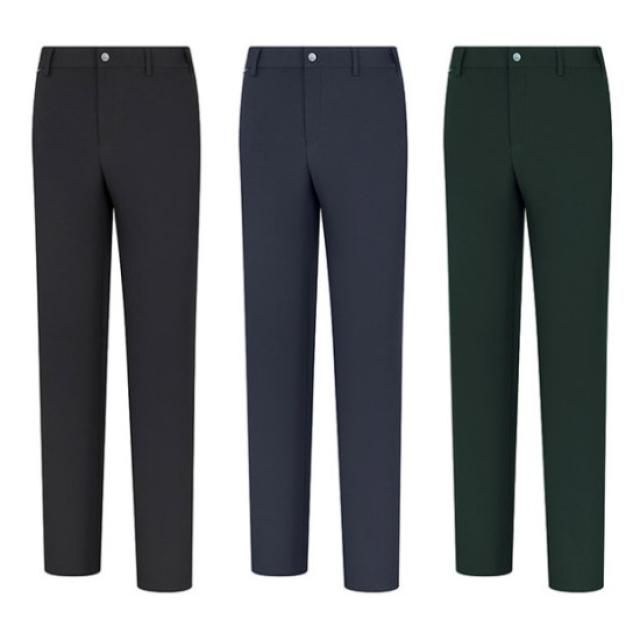pants: (30, 43, 203, 599), (234, 43, 406, 601), (440, 43, 612, 597)
